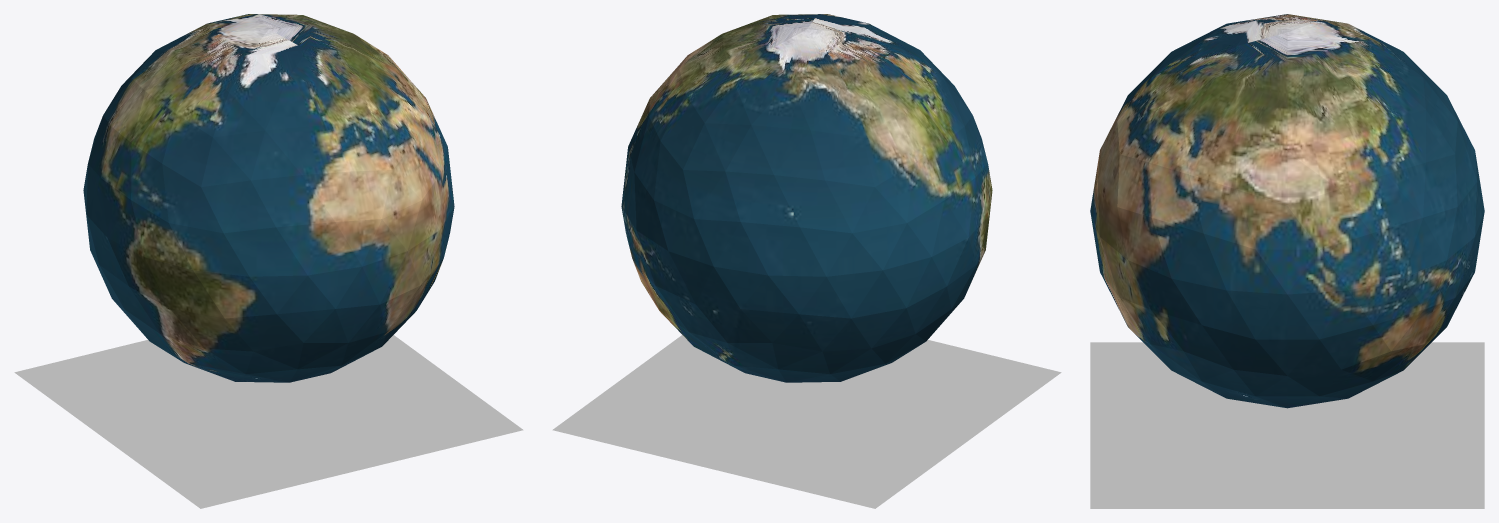
The model's file is earth.dae.
3 renders of one model, left to right at view 1: azimuth 30°, elevation 25°; view 2: azimuth 150°, elevation 25°; view 3: azimuth 270°, elevation 25°, orthographic. The views are drawn at different scales.
Parts seen in each view (by area): view 1: Earth, Shadow; view 2: Earth, Shadow; view 3: Earth, Shadow.
Boxes of the visible parts, box(x1,y1,x2,y2) form: Earth: box(83, 14, 454, 382); Shadow: box(14, 335, 523, 508); Earth: box(621, 14, 992, 382); Shadow: box(552, 335, 1061, 508); Earth: box(1090, 14, 1484, 408); Shadow: box(1090, 342, 1484, 508).
Size of the model in its own units: 10 by 10 by 11.
